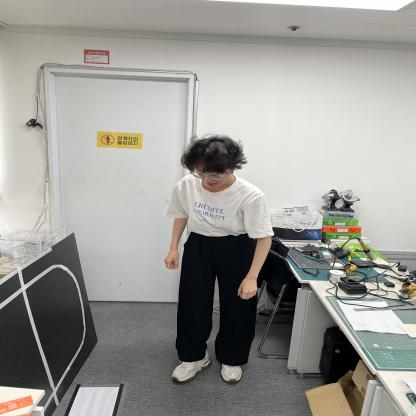normal: (165, 130, 274, 393)
